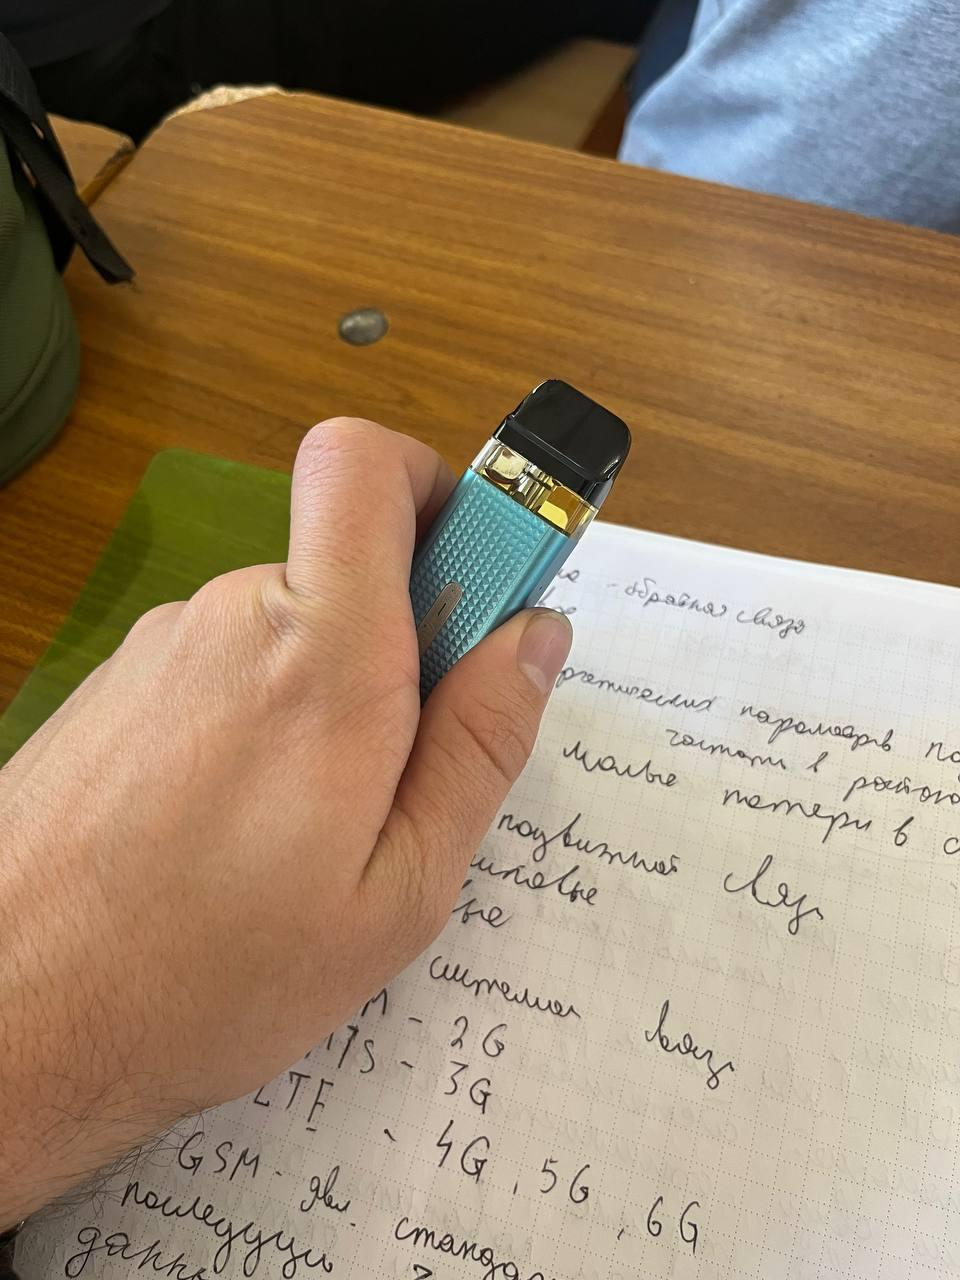Vape: (409, 380, 629, 704)
